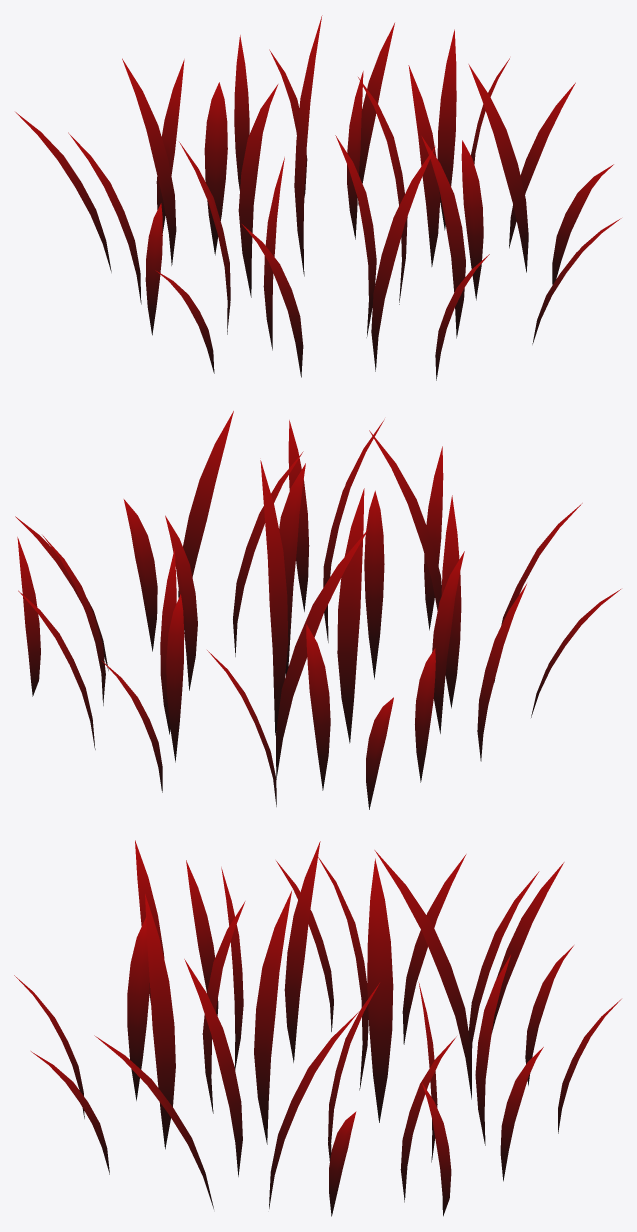
File: grass2.fbx
The picture shows the model from 3 angles, top to bottom: view 1: azimuth 30°, elevation 25°; view 2: azimuth 150°, elevation 25°; view 3: azimuth 270°, elevation 25°; orthographic projection. The views are drawn at different scales.
Visible parts, largest first — view 1: Plane.002; view 2: Plane.002; view 3: Plane.002.
Boxes of the visible parts, bbox=[...] form: Plane.002: bbox=[15, 15, 621, 380]; Plane.002: bbox=[15, 411, 620, 809]; Plane.002: bbox=[14, 840, 621, 1216].
Size of the model in its own units: 316 by 156 by 315.
